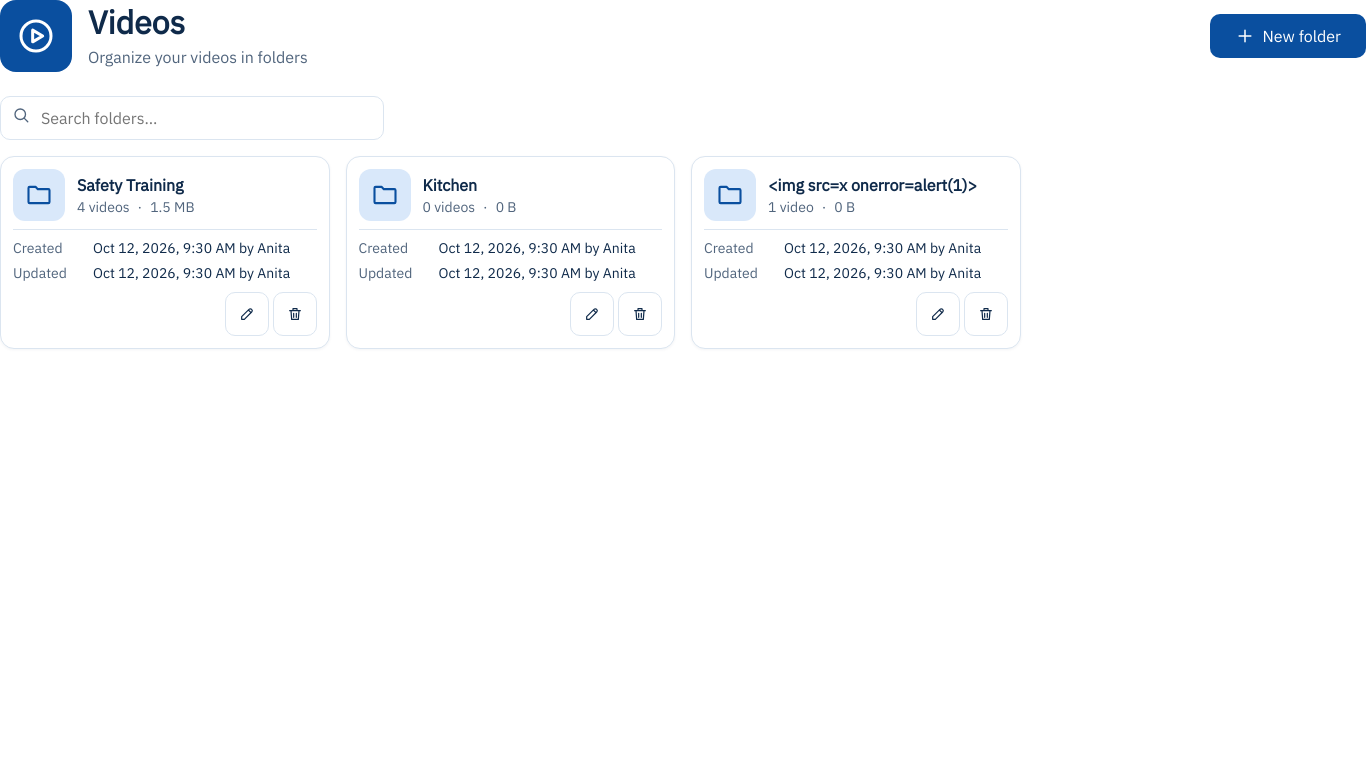
Scenario: CategoryPage › deleting a folder › asks first, naming what goes with the folder, and sends nothing until it is confirmed
Click the button named "Delete Safety Training": (294, 314) [272,292,316,336]
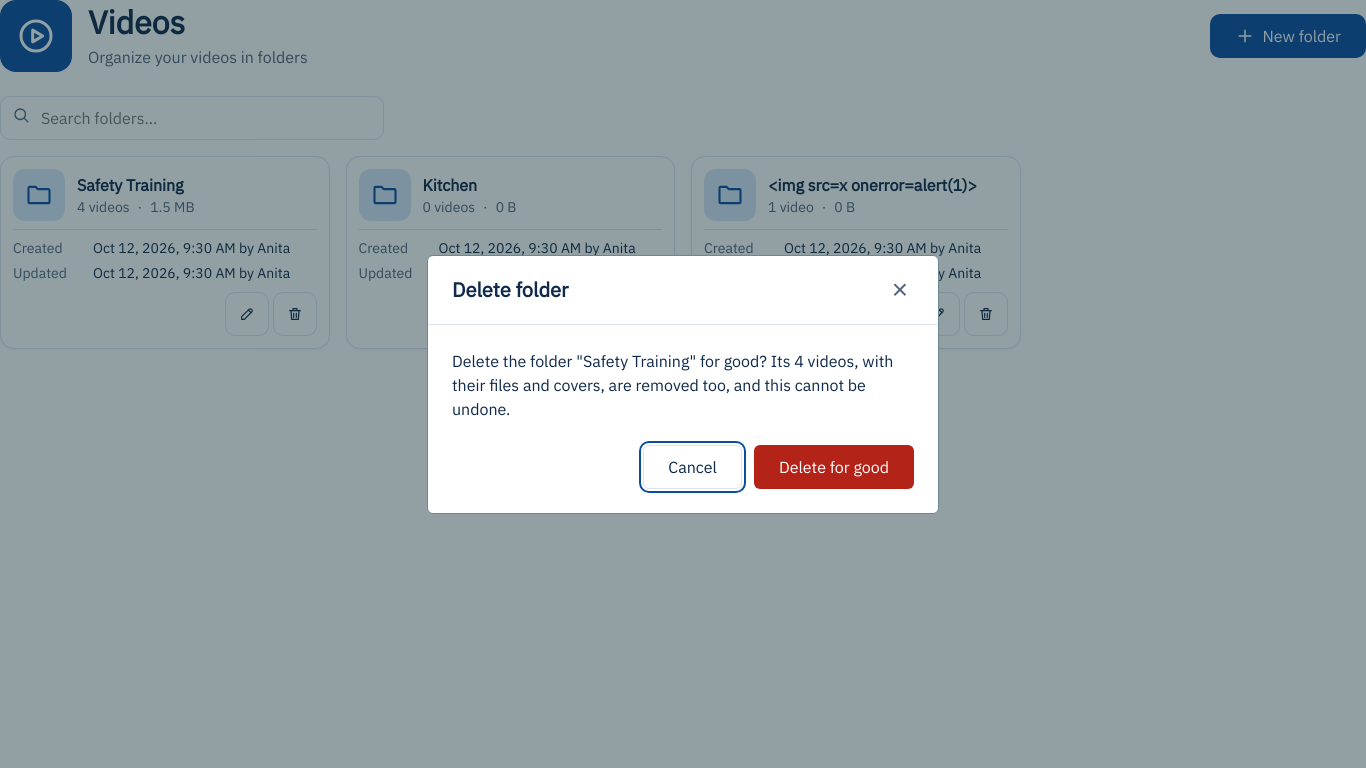
Result: the dialog "Delete folder" shows "Delete the folder \"Safety Training\" for good? Its 4 videos, with their files and covers, are removed too, and this cannot be undone." at [452,350,893,418]
Click the button "Cancel": (693, 466) [643,444,742,488]
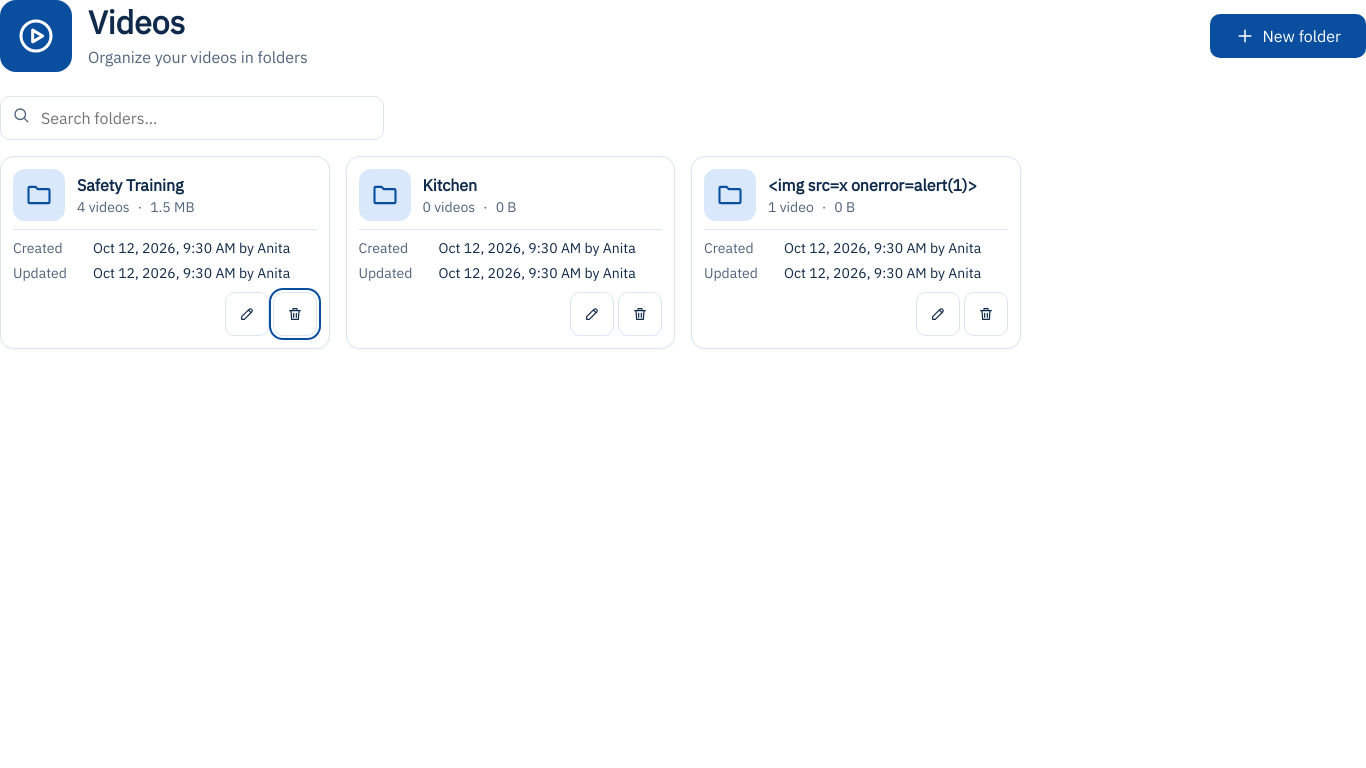
Result: the dialog is gone
